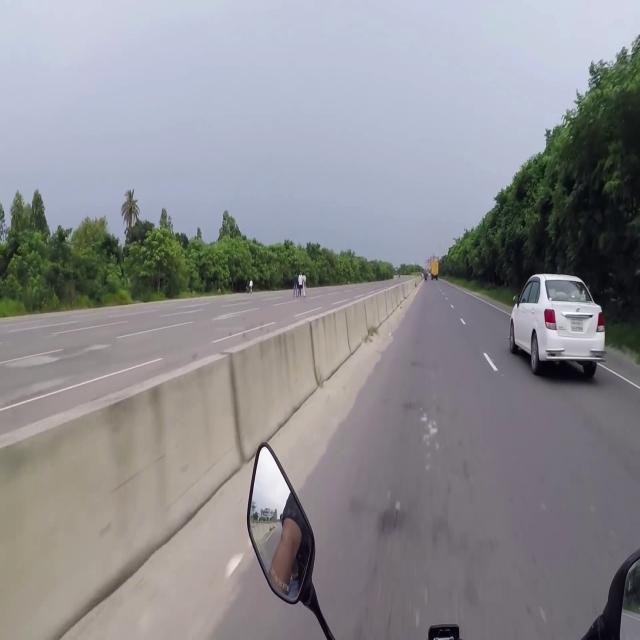white: (508, 270, 602, 386)
